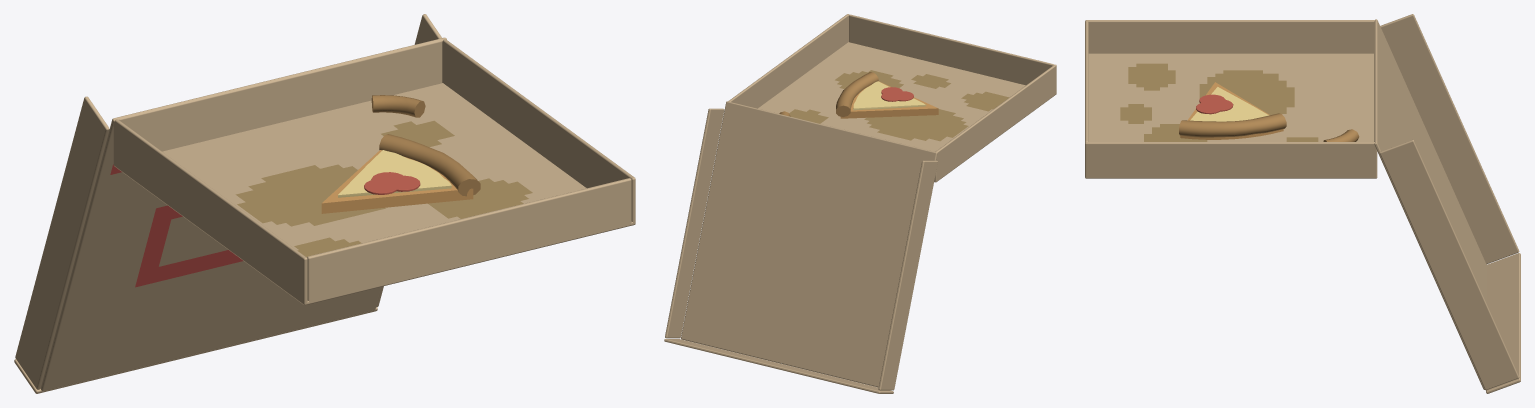
Rendered from kitchen_pizza_box_open.fbx.
3 renders of one model, left to right at view 1: azimuth 30°, elevation 25°; view 2: azimuth 150°, elevation 25°; view 3: azimuth 270°, elevation 25°, orthographic. The views are drawn at different scales.
Visible parts, largest first — view 1: kitchen_pizza_box_open; view 2: kitchen_pizza_box_open; view 3: kitchen_pizza_box_open.
Boxes of the visible parts, x1,y1,x2,y2 form: kitchen_pizza_box_open: (14, 14, 635, 393); kitchen_pizza_box_open: (664, 14, 1056, 393); kitchen_pizza_box_open: (1085, 14, 1520, 393).
Bounding box in the file's own units: 0.34 × 0.3159 × 0.492.
